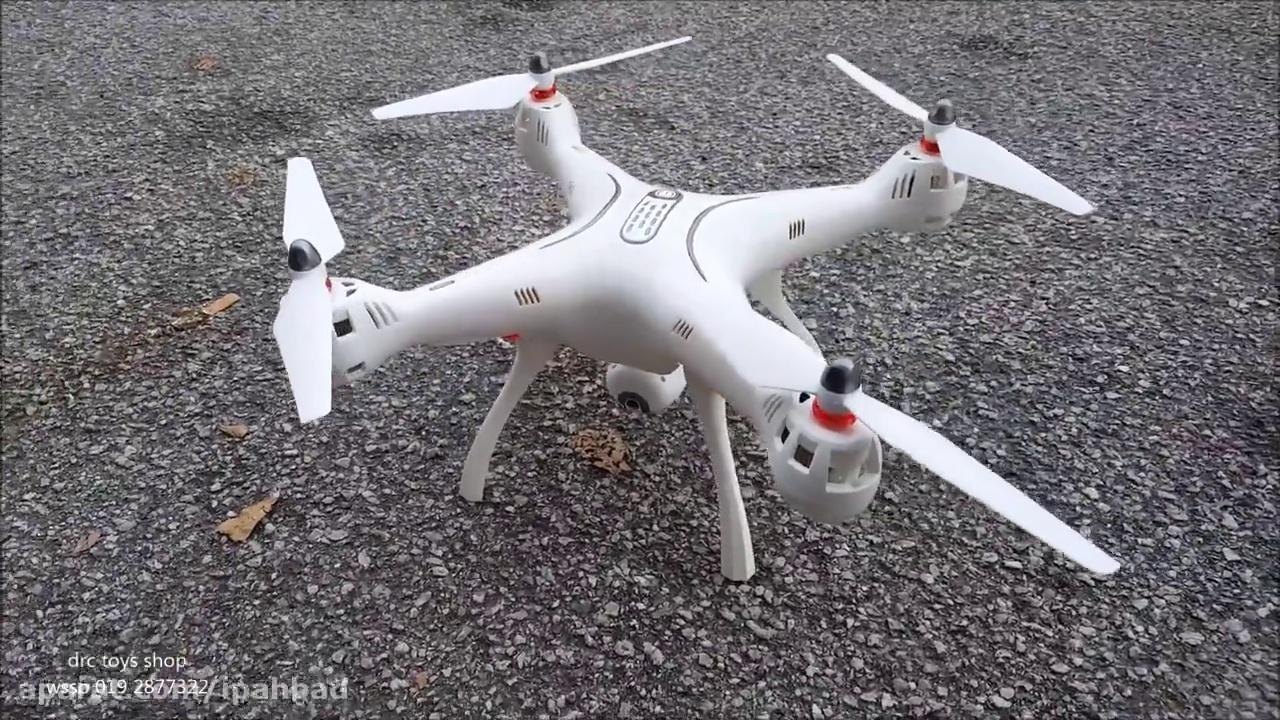drone: (263, 28, 1135, 585)
